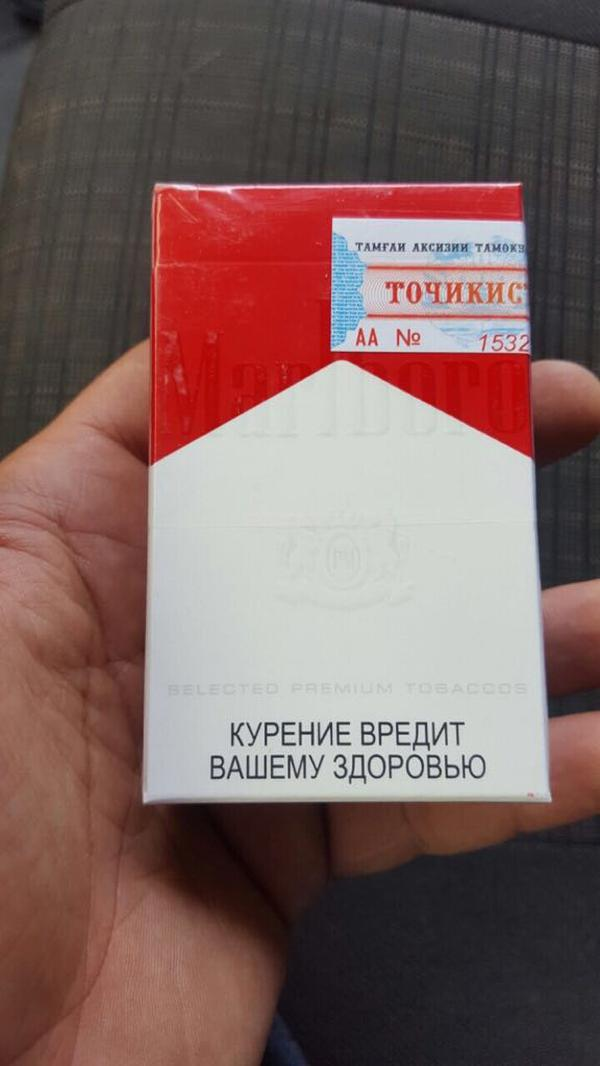marlboro_red: (148, 185, 545, 806)
